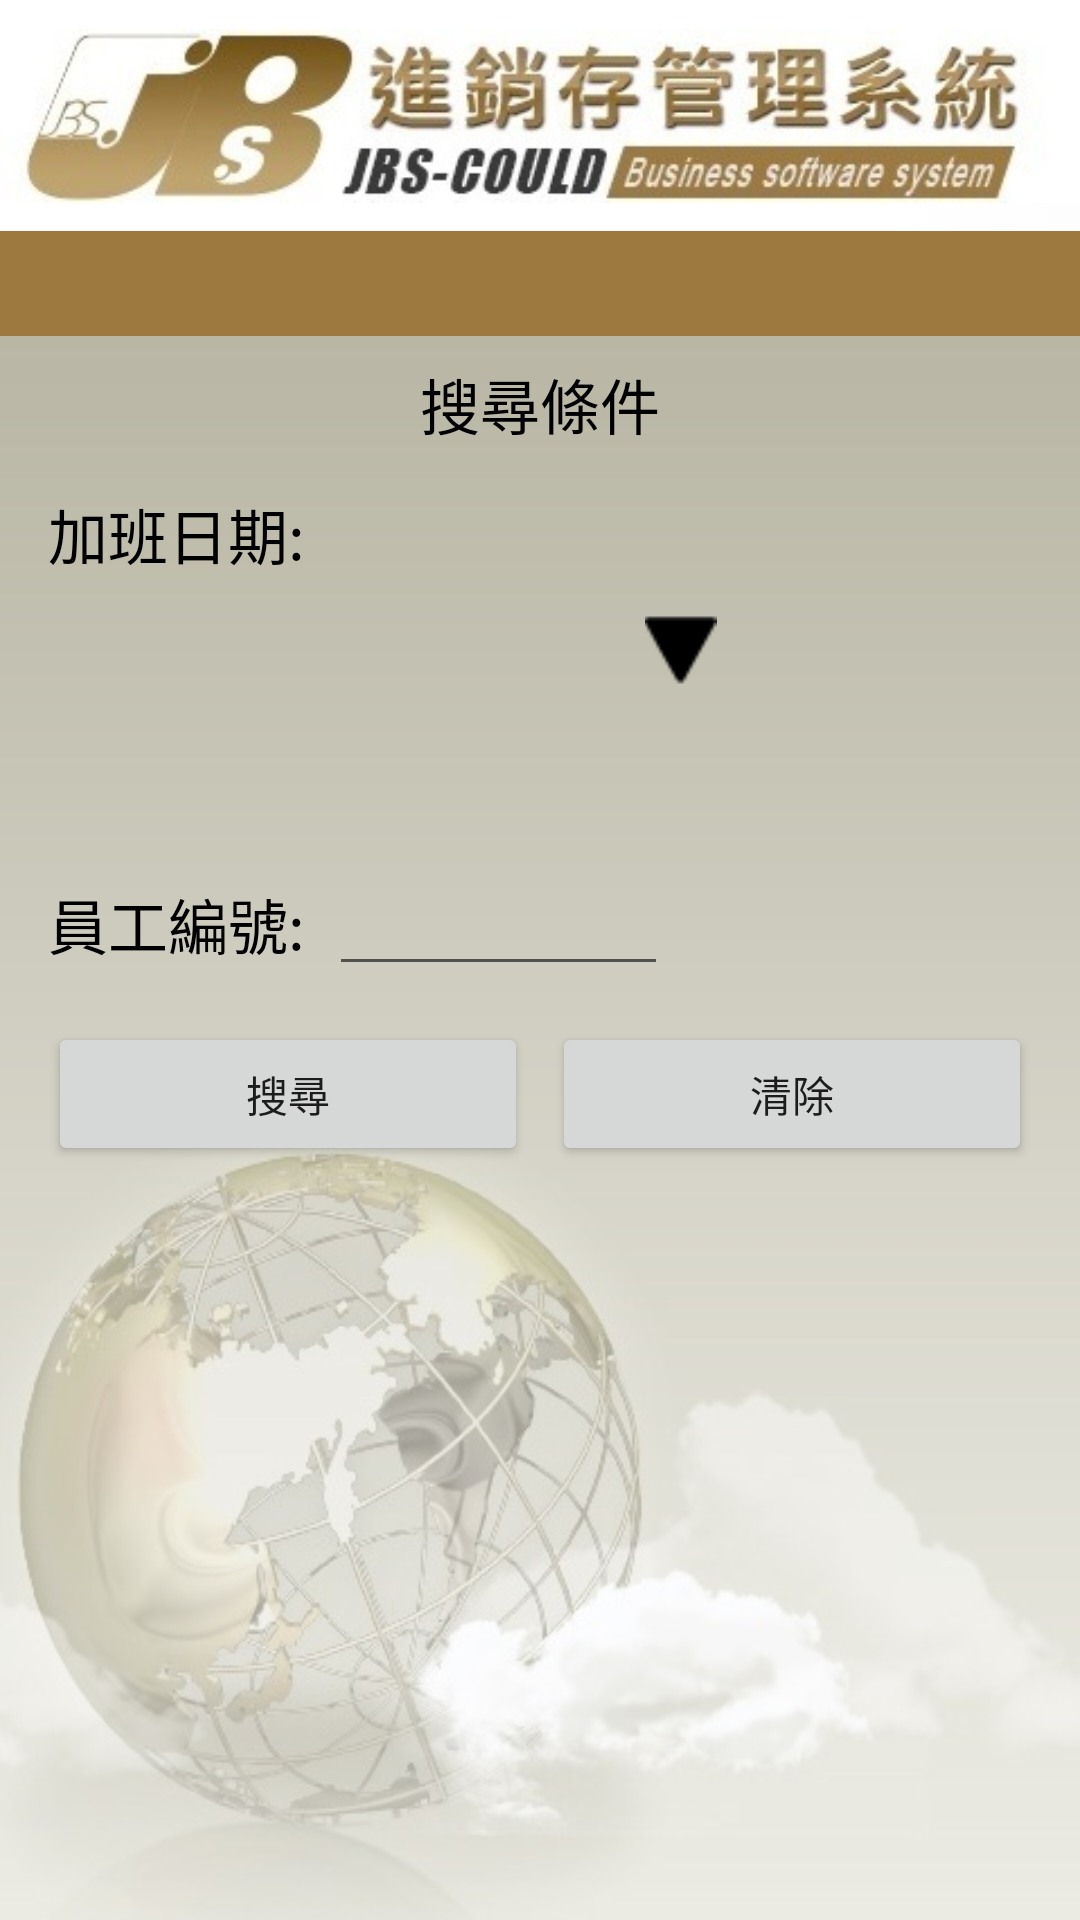

Screen size 1080 x 1920. Icon name, then its box in pixels as (x1, y1, x2, y2):
down arrow: (645, 616, 717, 684)
